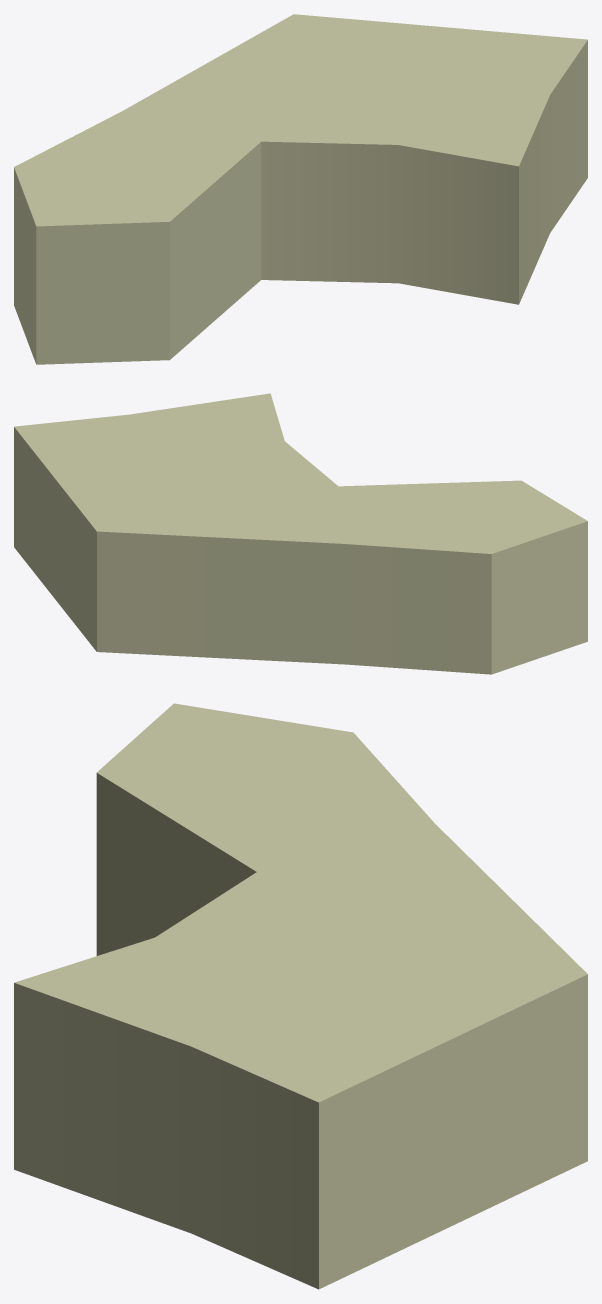
Rendered from chiayi.glb.
The picture shows the model from 3 angles, top to bottom: view 1: azimuth 30°, elevation 25°; view 2: azimuth 150°, elevation 25°; view 3: azimuth 270°, elevation 25°; orthographic projection. The views are drawn at different scales.
Parts seen in each view (by area): view 1: map_geo Chiayi_geo; view 2: map_geo Chiayi_geo; view 3: map_geo Chiayi_geo.
Boxes of the visible parts, x1,y1,x2,y2 form: map_geo Chiayi_geo: [14, 14, 587, 364]; map_geo Chiayi_geo: [14, 393, 587, 674]; map_geo Chiayi_geo: [14, 703, 587, 1289].
Size of the model in its own units: 1.27 by 0.2781 by 0.7737.
1 material, 1 textured.
